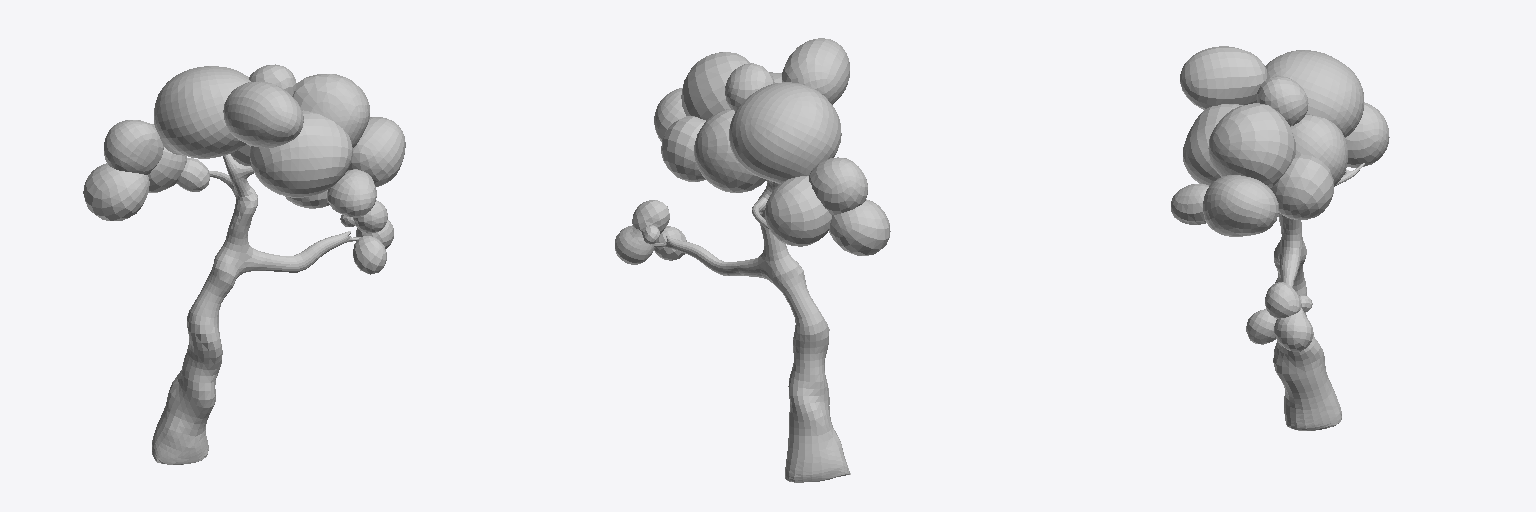
The model's file is tree(old).obj.
3 views of the same model, side by side, from view 1: azimuth 30°, elevation 25°; view 2: azimuth 150°, elevation 25°; view 3: azimuth 270°, elevation 25° (orthographic).
Parts seen in each view (by area): view 1: ZBrush_defualt_group; view 2: ZBrush_defualt_group; view 3: ZBrush_defualt_group.
Boxes of the visible parts, <box> form: ZBrush_defualt_group: <box>83,64,405,464</box>; ZBrush_defualt_group: <box>615,38,890,482</box>; ZBrush_defualt_group: <box>1171,46,1389,430</box>.
Size of the model in its own units: 12.39 by 16.19 by 8.19.